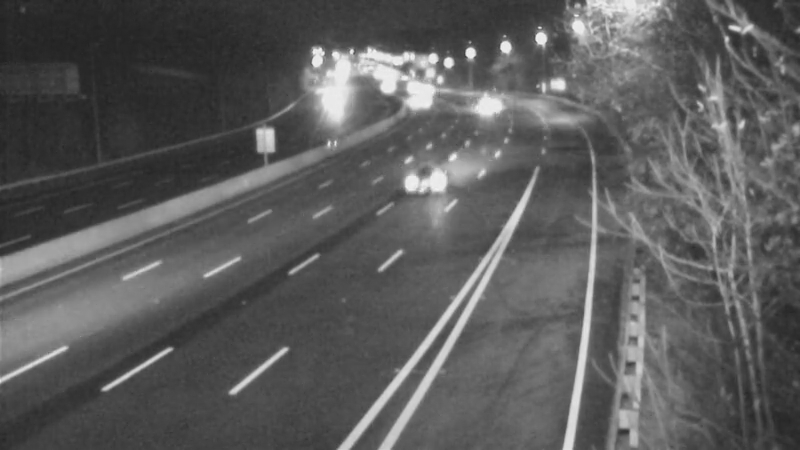vehicle: (378, 146, 458, 226), (362, 62, 412, 112), (402, 66, 452, 116), (460, 77, 510, 127), (388, 71, 438, 121)
